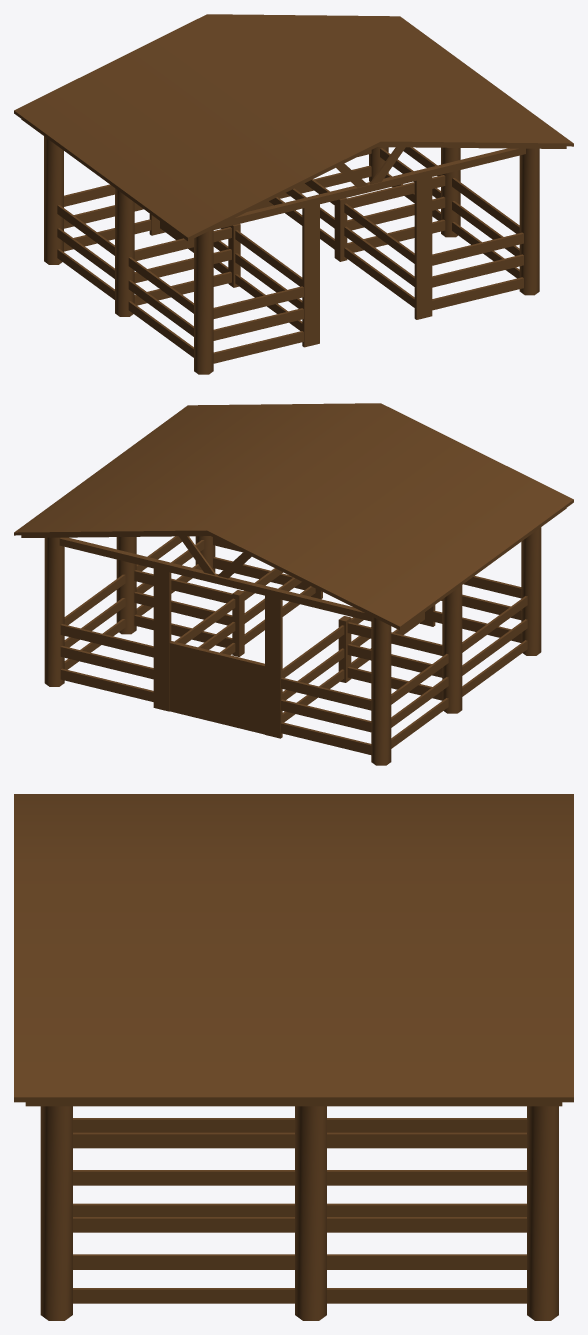
Rendered from corral.glb.
3 views of the same model, one above another, from view 1: azimuth 30°, elevation 25°; view 2: azimuth 150°, elevation 25°; view 3: azimuth 270°, elevation 25° (orthographic). The views are drawn at different scales.
Visible parts, largest first — view 1: corralon.001; view 2: corralon.001; view 3: corralon.001.
Boxes of the visible parts, x1,y1,x2,y2 form: corralon.001: (14, 14, 573, 374); corralon.001: (14, 403, 573, 765); corralon.001: (14, 794, 573, 1320).
Bounding box in the file's own units: 5.72 × 2.82 × 4.46.
